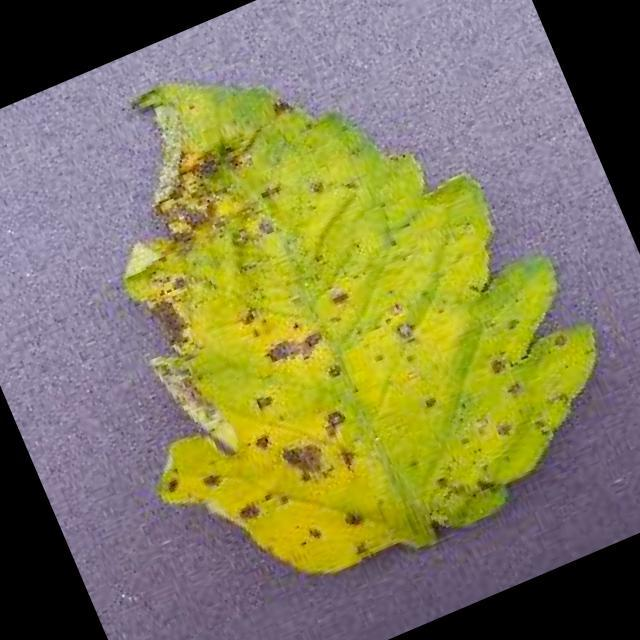Tomato Septoria spot leaf: (14, 0, 640, 633)
